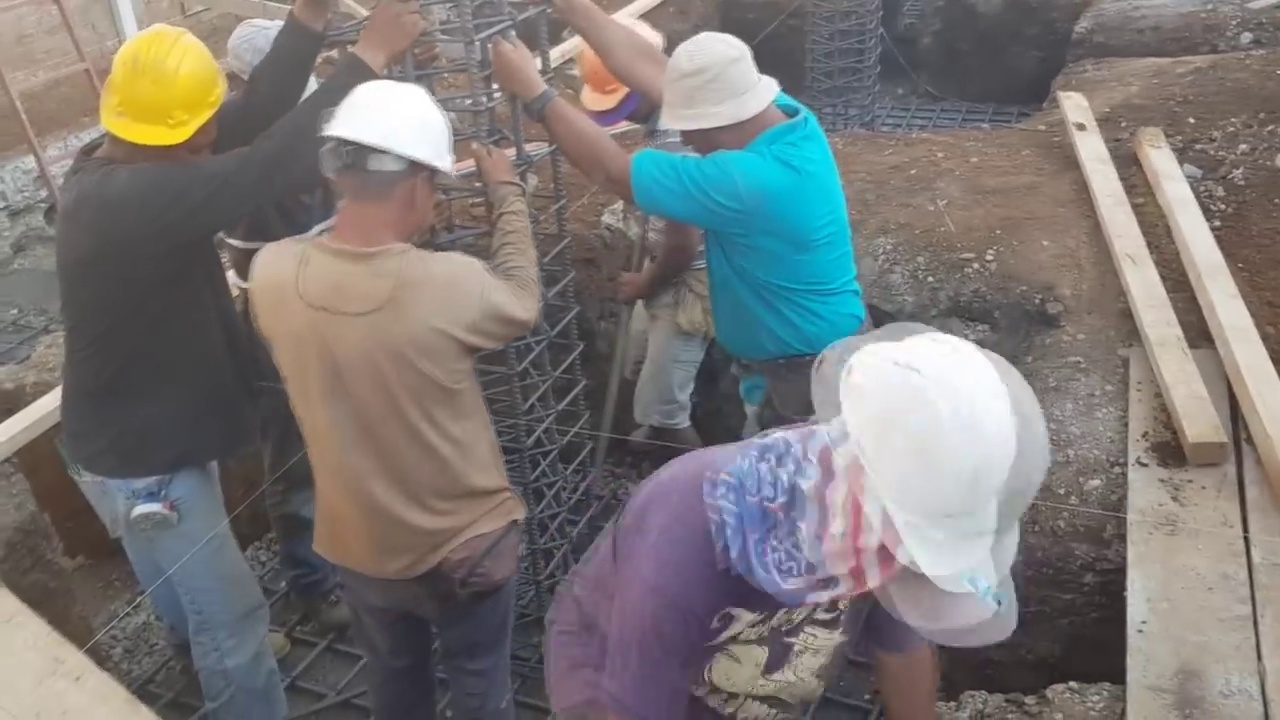helmet: (829, 351, 1048, 598), (312, 75, 456, 185), (91, 27, 220, 145), (580, 12, 657, 117)
helmet-off: (659, 30, 794, 158)
helmet-on: (740, 323, 1048, 651), (302, 77, 457, 261), (76, 23, 223, 171), (566, 22, 669, 160)
person: (227, 89, 576, 717), (58, 0, 341, 720), (551, 333, 1070, 711), (489, 32, 877, 453), (554, 24, 718, 454), (555, 16, 711, 459)
